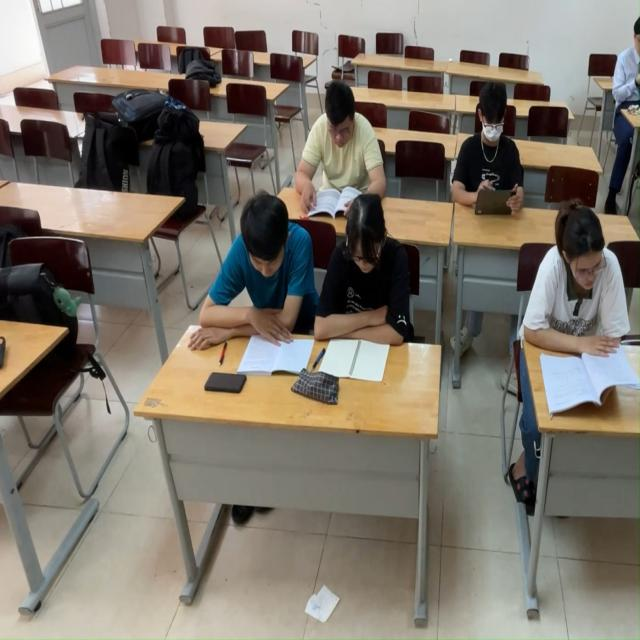read: (544, 201, 638, 421), (213, 196, 304, 392), (328, 206, 417, 405), (452, 92, 542, 243), (302, 84, 396, 211)
